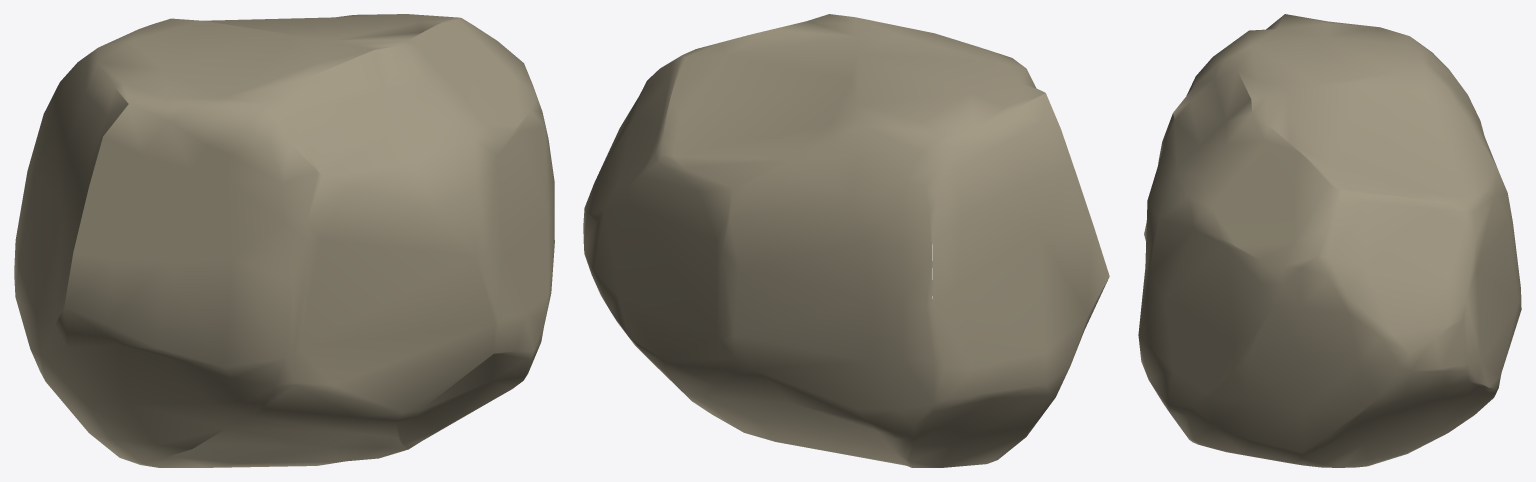
Rendered from Rock-4vHWF8XUBn.glb.
The picture shows the model from 3 angles, left to right: view 1: azimuth 30°, elevation 25°; view 2: azimuth 150°, elevation 25°; view 3: azimuth 270°, elevation 25°; orthographic projection. The views are drawn at different scales.
Parts seen in each view (by area): view 1: Environment_Rock_3; view 2: Environment_Rock_3; view 3: Environment_Rock_3.
Part boxes in pixels (x1=…): Environment_Rock_3: x1=14, y1=14, x2=554, y2=467; Environment_Rock_3: x1=583, y1=14, x2=1109, y2=467; Environment_Rock_3: x1=1138, y1=14, x2=1521, y2=467.
Bounding box in the file's own units: 0.77 × 0.6117 × 0.5839.
Materials: 1 (1 with a texture image).
